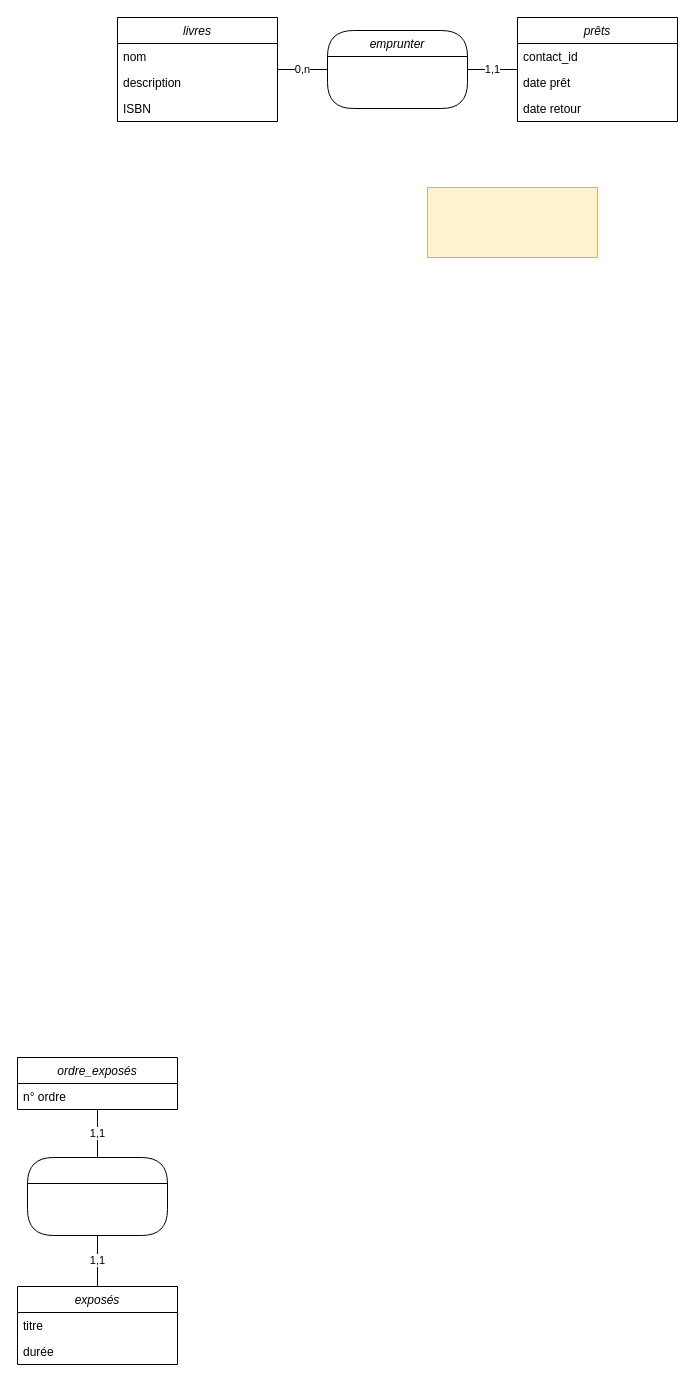
This 695x1385 diagram has some shape labels left out. The centre of each missing label's shape, as x and y in pixels:
ordonner: point (97, 1196)
Titre : BookMyBook_MCD Auteur : Thomas Grossmann Date : 04.05.2023 Version : 1.1: point (512, 222)
